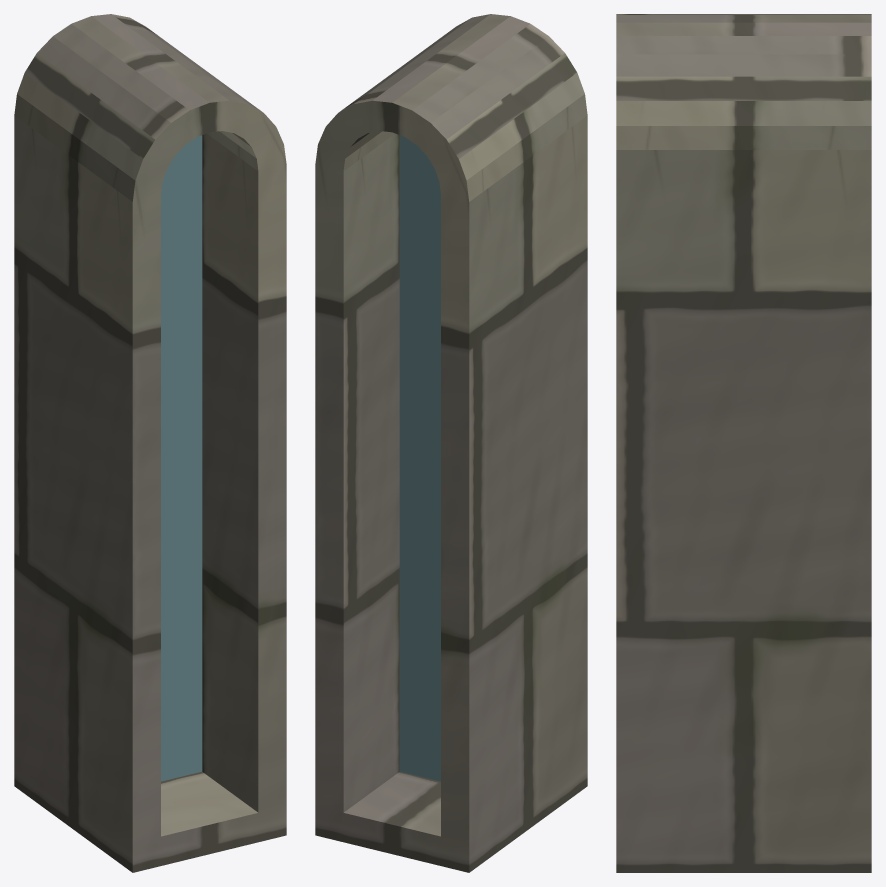
File: Furn_Window_Slit.fbx
3 views of the same model, side by side, from view 1: azimuth 30°, elevation 25°; view 2: azimuth 150°, elevation 25°; view 3: azimuth 270°, elevation 25° (orthographic). The views are drawn at different scales.
Visible parts, largest first — view 1: Furn_Window_Slit_Mesh; view 2: Furn_Window_Slit_Mesh; view 3: Furn_Window_Slit_Mesh.
Part boxes in pixels (left/top/right/bottom): Furn_Window_Slit_Mesh: left=14, top=14, right=286, bottom=872; Furn_Window_Slit_Mesh: left=315, top=14, right=587, bottom=872; Furn_Window_Slit_Mesh: left=616, top=14, right=871, bottom=872.
Bounding box in the file's own units: 0.3 × 1.4 × 0.4.
